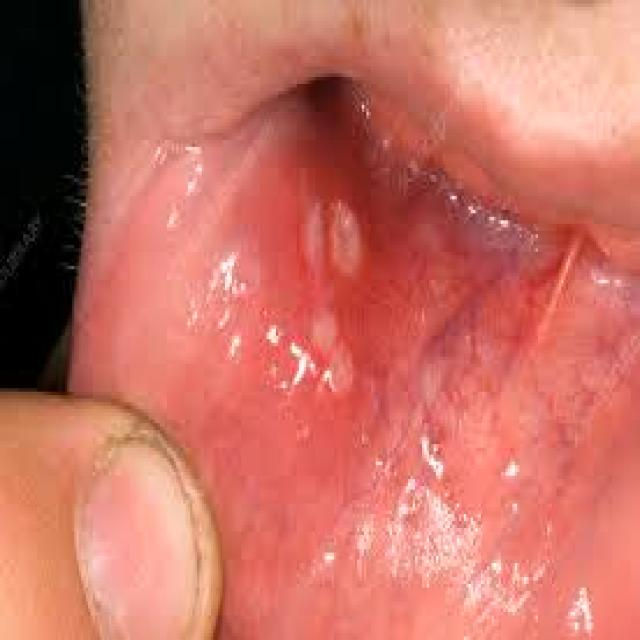ulcer: (308, 308, 350, 388), (327, 199, 362, 273), (304, 203, 322, 273), (322, 343, 350, 388)
